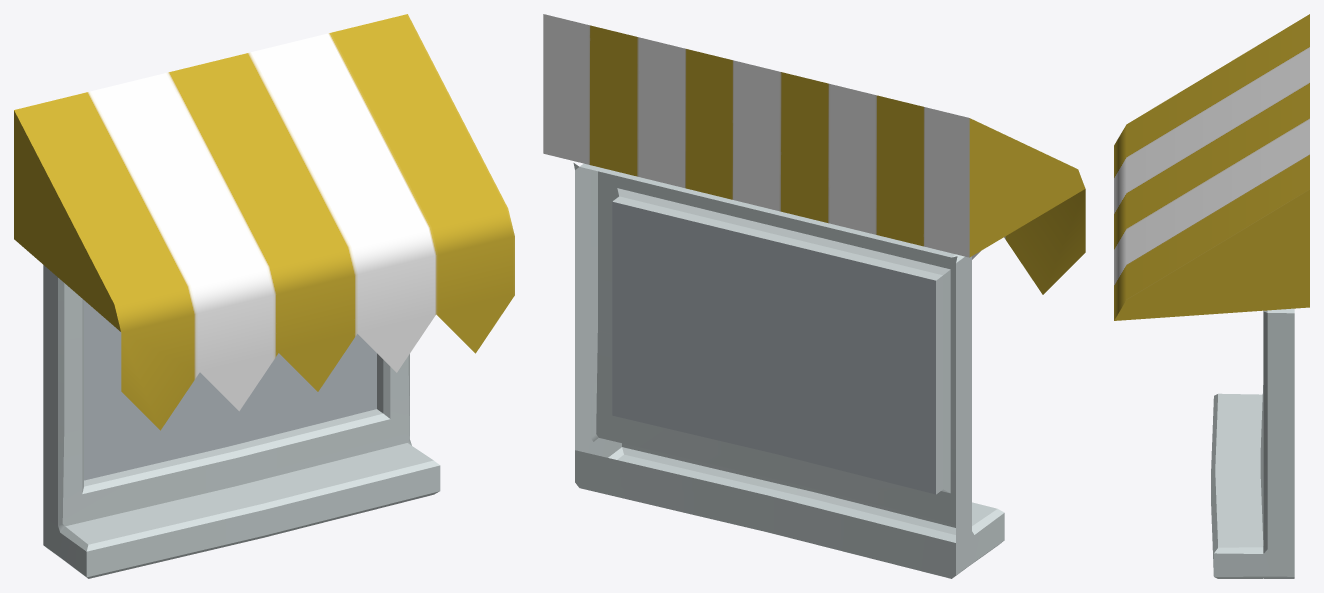
File: fbx_oldbuilding_window_g.fbx
3 views of the same model, side by side, from view 1: azimuth 30°, elevation 25°; view 2: azimuth 150°, elevation 25°; view 3: azimuth 270°, elevation 25° (orthographic). The views are drawn at different scales.
Visible parts, largest first — view 1: fbx_oldbuilding_window_g; view 2: fbx_oldbuilding_window_g; view 3: fbx_oldbuilding_window_g.
Part boxes in pixels (bbox=[...]): fbx_oldbuilding_window_g: bbox=[14, 14, 514, 578]; fbx_oldbuilding_window_g: bbox=[543, 14, 1085, 578]; fbx_oldbuilding_window_g: bbox=[1114, 14, 1309, 578].
Size of the model in its own units: 1.18 by 1.25 by 0.5556.
Materials: 2 (1 with a texture image).
